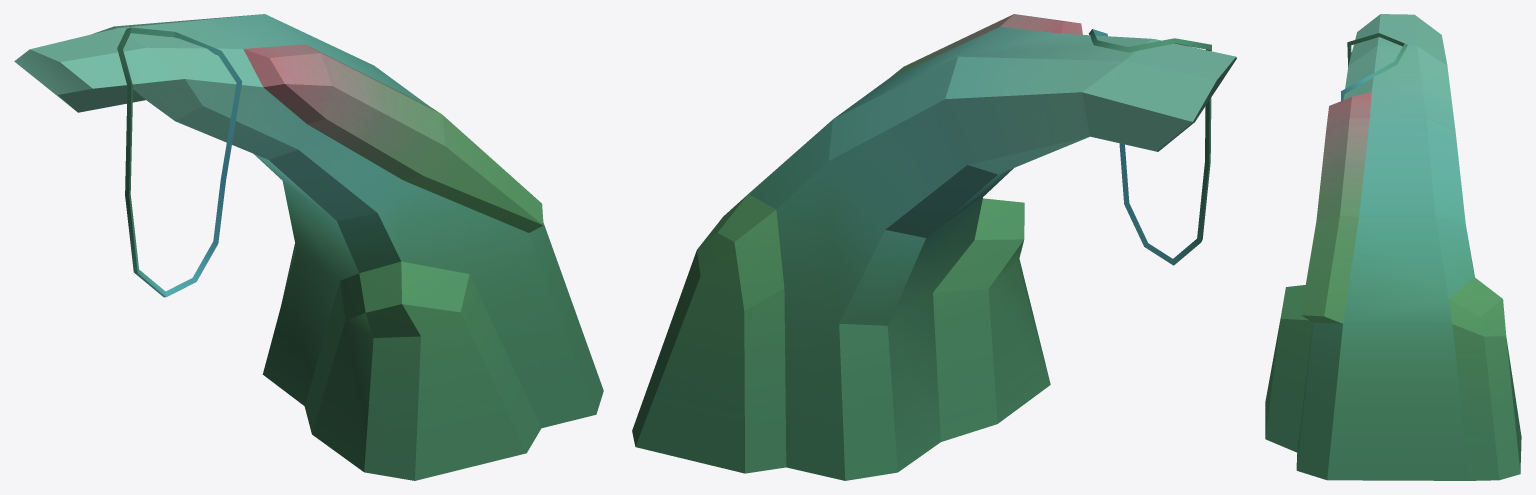
Rendered from Cliffe_lush.FBX.
3 views of the same model, side by side, from view 1: azimuth 30°, elevation 25°; view 2: azimuth 150°, elevation 25°; view 3: azimuth 270°, elevation 25° (orthographic). The views are drawn at different scales.
Visible parts, largest first — view 1: cliffe_lush; view 2: cliffe_lush; view 3: cliffe_lush.
Boxes of the visible parts, left/top/right/bottom form: cliffe_lush: left=14, top=14, right=603, bottom=480; cliffe_lush: left=632, top=14, right=1236, bottom=480; cliffe_lush: left=1265, top=14, right=1521, bottom=480.
Size of the model in its own units: 26.2 by 20.93 by 16.34.
